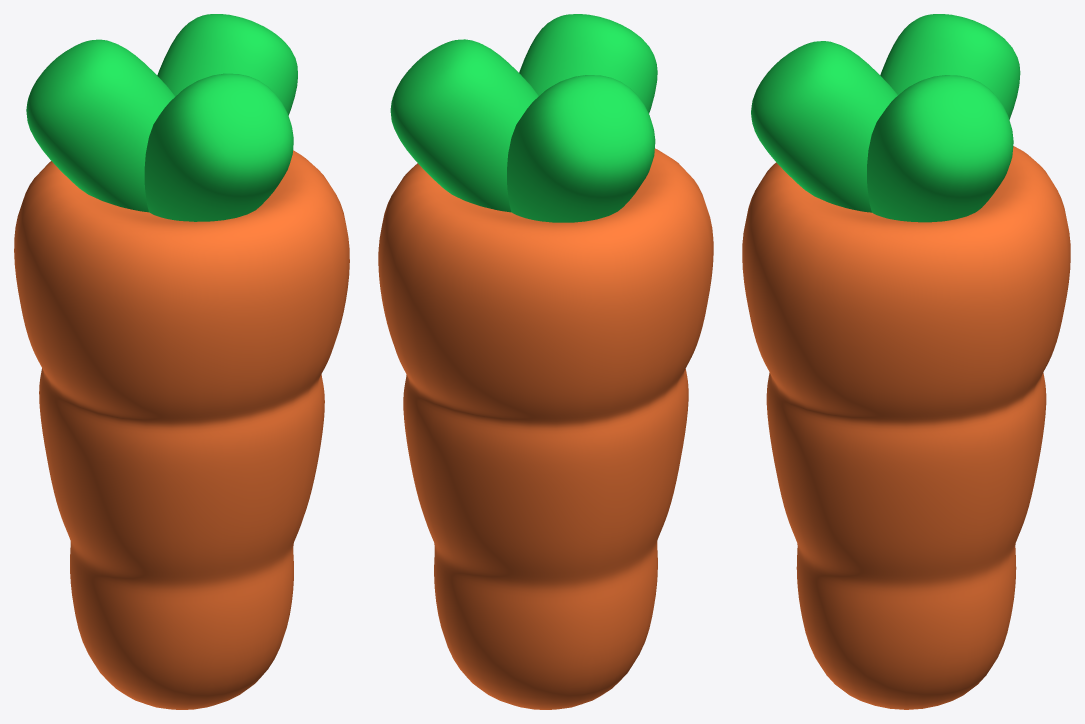
Rendered from carrot.glb.
The picture shows the model from 3 angles, left to right: view 1: azimuth 30°, elevation 25°; view 2: azimuth 150°, elevation 25°; view 3: azimuth 270°, elevation 25°; orthographic projection.
Visible parts, largest first — view 1: Cube.001; view 2: Cube.001; view 3: Cube.001.
Part boxes in pixels (<box>): Cube.001: <box>14,14,349,709</box>; Cube.001: <box>378,14,713,709</box>; Cube.001: <box>742,14,1070,709</box>.
Size of the model in its own units: 0.3143 by 0.685 by 0.3143.
